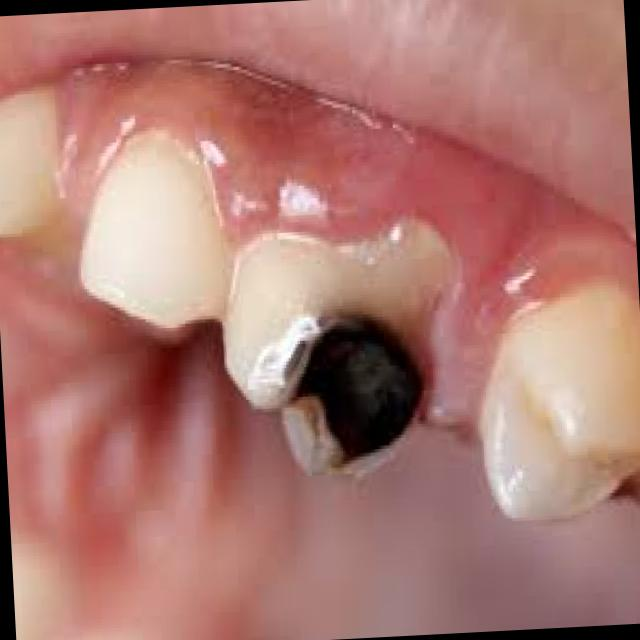caries: (282, 301, 432, 487)
